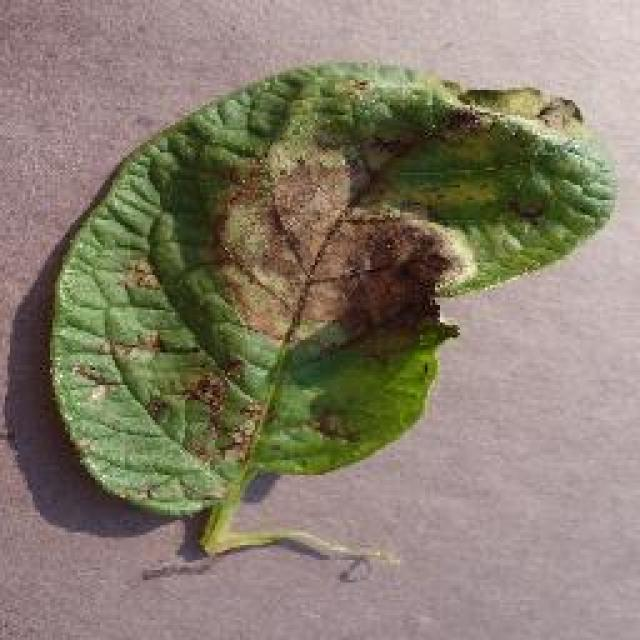late_blight: (42, 55, 620, 545)
